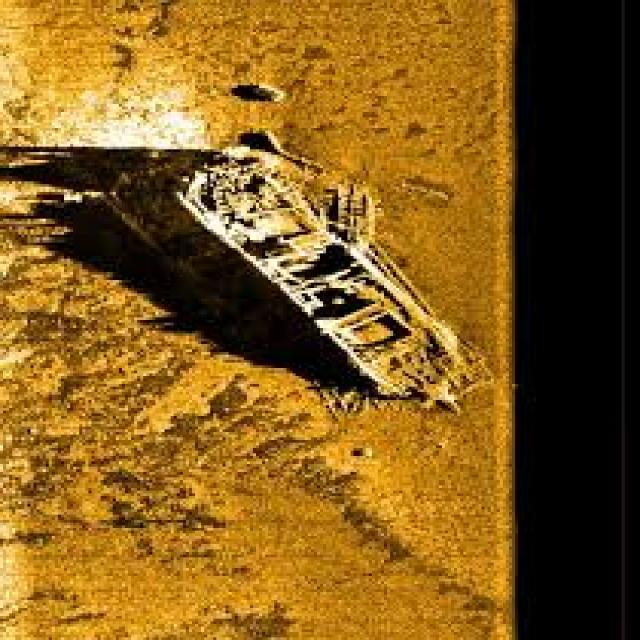shipwreck: (103, 130, 476, 408)
